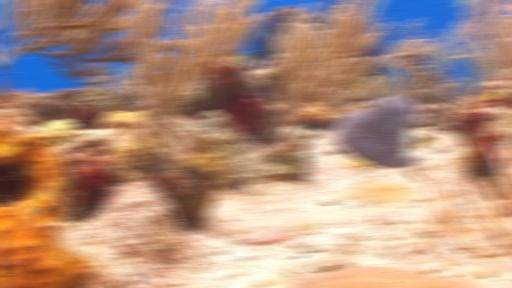Fish: (417, 138, 436, 148), (484, 90, 501, 100), (436, 60, 451, 70), (264, 28, 275, 40), (456, 0, 474, 6)
